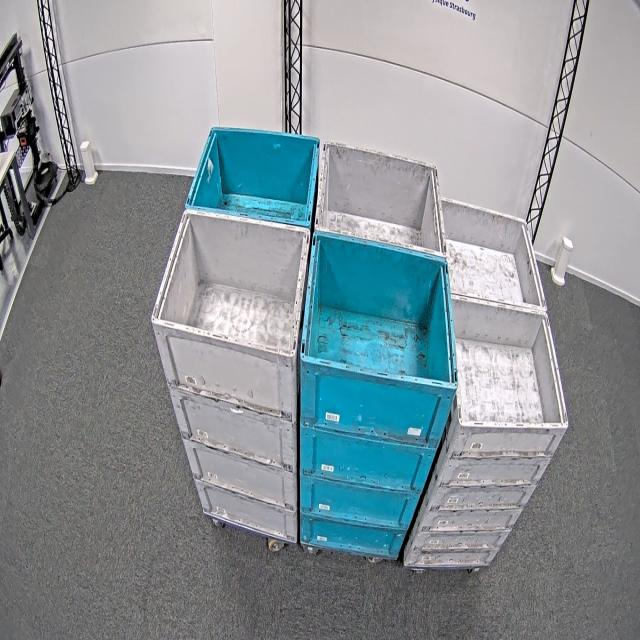Roll3G: (449, 293, 572, 430), (438, 195, 547, 312)
Roll4G: (151, 207, 311, 362), (314, 137, 448, 259)
RollB4: (300, 230, 459, 390), (184, 123, 321, 230)
